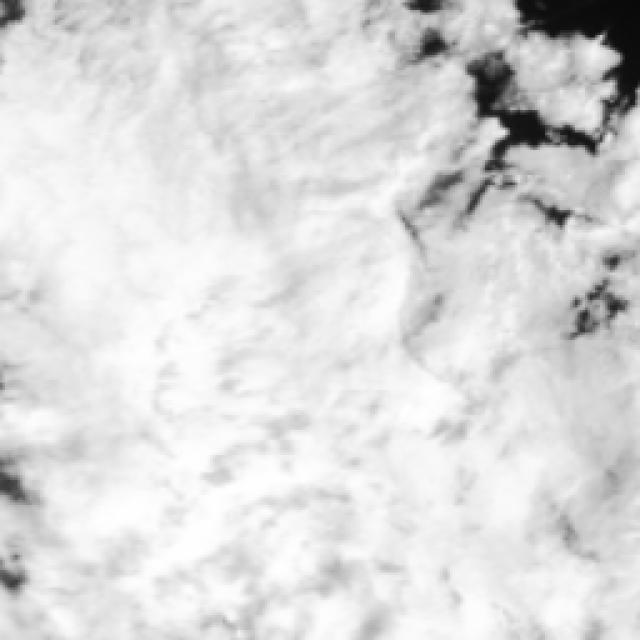CB: (168, 12, 355, 258), (3, 43, 175, 267), (196, 267, 372, 485), (9, 276, 194, 477), (362, 460, 568, 640), (375, 293, 553, 478), (197, 464, 367, 635), (35, 474, 195, 640)
